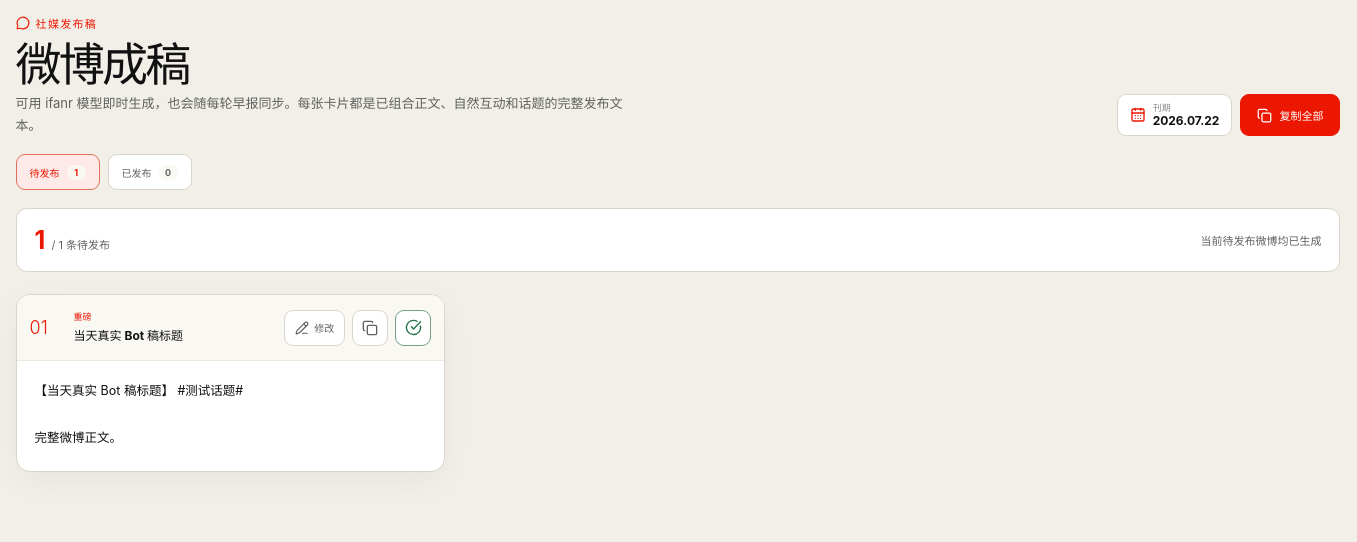
Test: App › keeps the Weibo card visible when marking it published fails
This screenshot has width=1357, height=542.
Expected: the text "【当天真实 Bot 稿标题】 #测试话题# 完整微博正文。" is shown, [35,383,243,445]
Click the button named "标记已发布" at (413, 328), box [395,310,431,346]
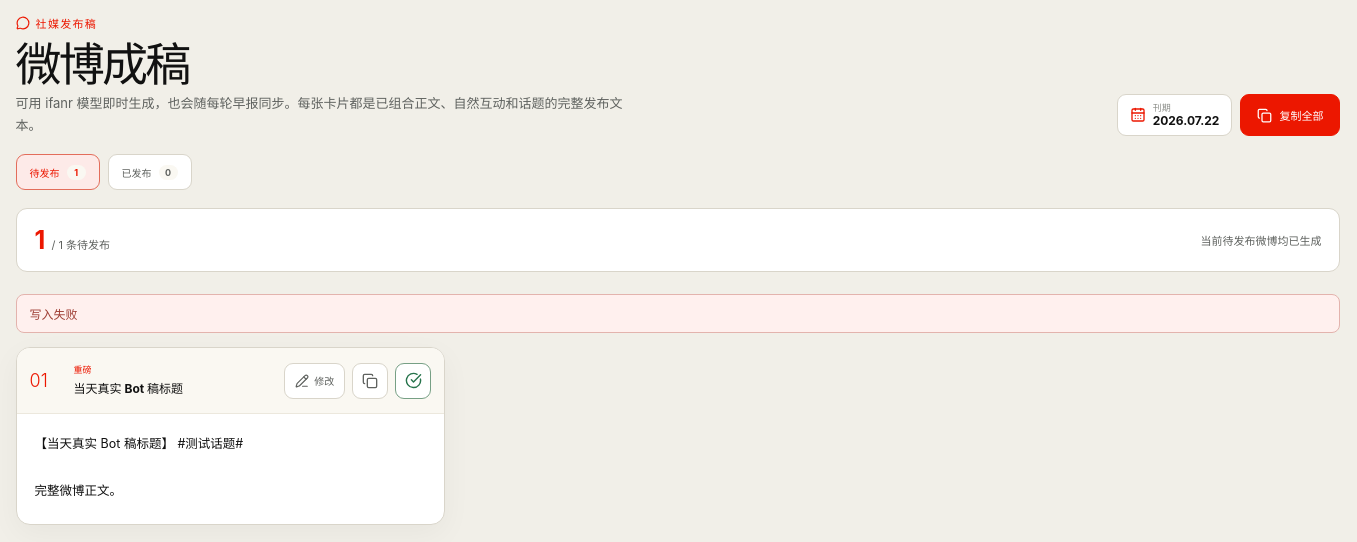
Expected: the text "【当天真实 Bot 稿标题】 #测试话题# 完整微博正文。" is shown, [35,436,243,498]
Now the message reads "写入失败", box [30,307,78,322]
